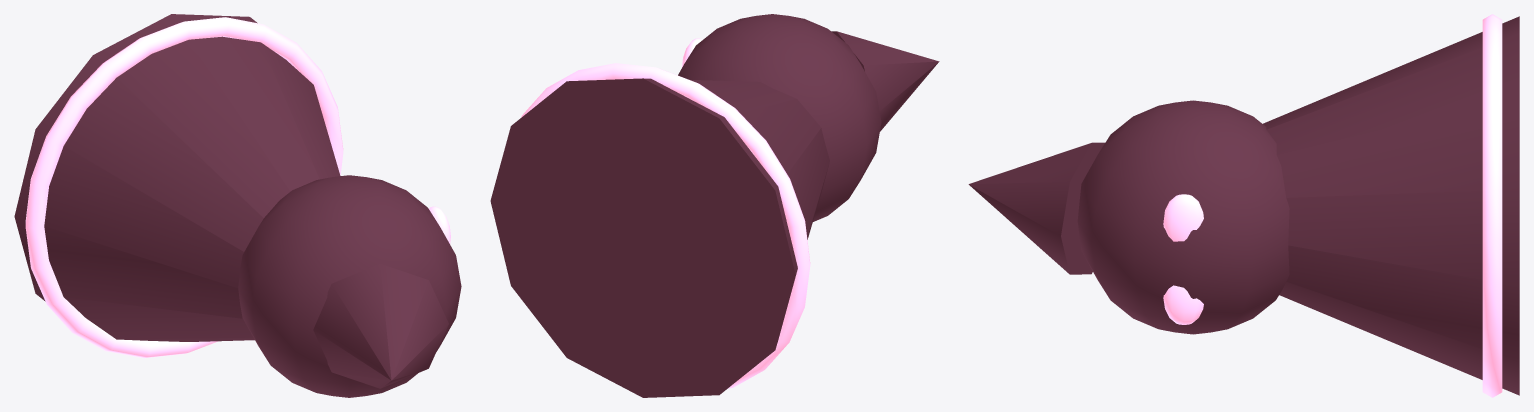
File: trauma-wstyd.glb
3 renders of one model, left to right at view 1: azimuth 30°, elevation 25°; view 2: azimuth 150°, elevation 25°; view 3: azimuth 270°, elevation 25°, orthographic. The views are drawn at different scales.
Visible parts, largest first — view 1: Shadow, Glow; view 2: Shadow, Glow; view 3: Shadow, Glow.
Part boxes in pixels (x1,y1,x2,y2): Shadow: (14,14,461,397); Glow: (25,17,450,358); Shadow: (490,14,939,397); Glow: (521,38,810,388); Shadow: (968,16,1519,395); Glow: (1163,14,1502,397).
Bounding box in the file's own units: 0.85 × 0.85 × 1.22.
